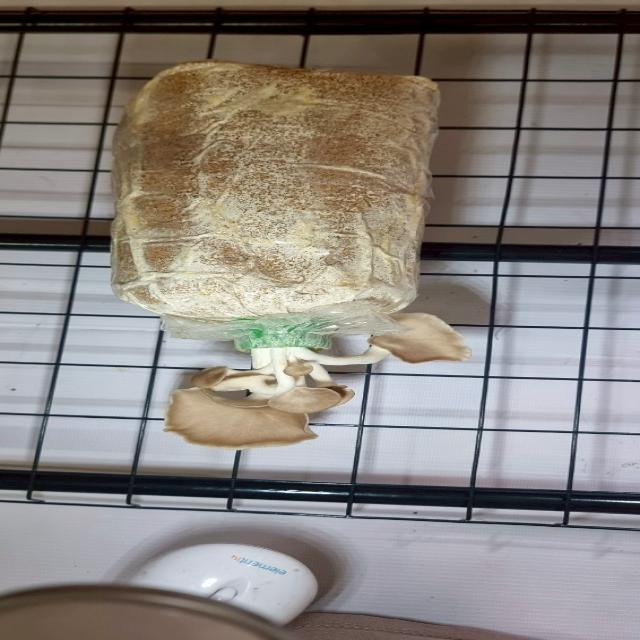normal: (146, 308, 478, 447)
